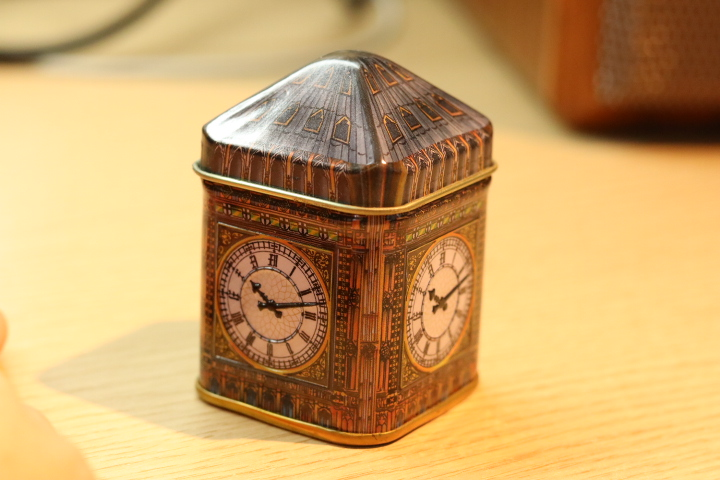Big Ben: (184, 43, 504, 457)
